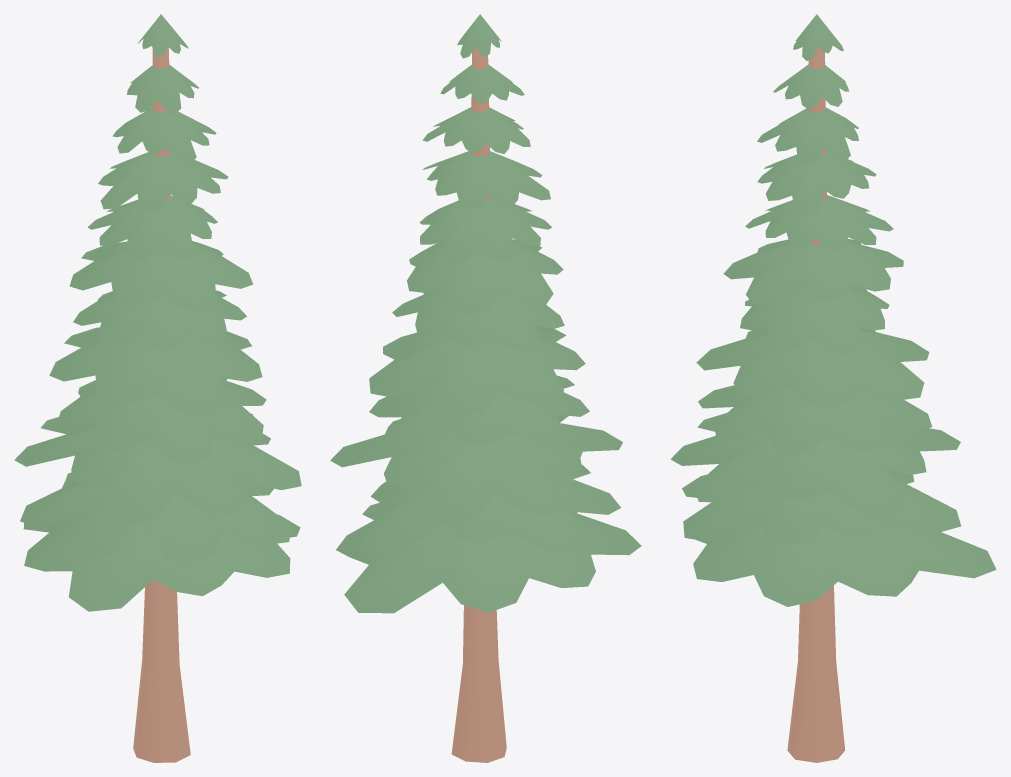
Rendered from Blender_Fir_1.glb.
3 views of the same model, side by side, from view 1: azimuth 30°, elevation 25°; view 2: azimuth 150°, elevation 25°; view 3: azimuth 270°, elevation 25° (orthographic).
Visible parts, largest first — view 1: Blender_Fir_1; view 2: Blender_Fir_1; view 3: Blender_Fir_1.
Part boxes in pixels (box(x1,y1,x2,y2)): Blender_Fir_1: box(14, 14, 301, 762); Blender_Fir_1: box(330, 14, 641, 762); Blender_Fir_1: box(670, 14, 996, 762).
Size of the model in its own units: 20.7 by 58.99 by 23.68.
